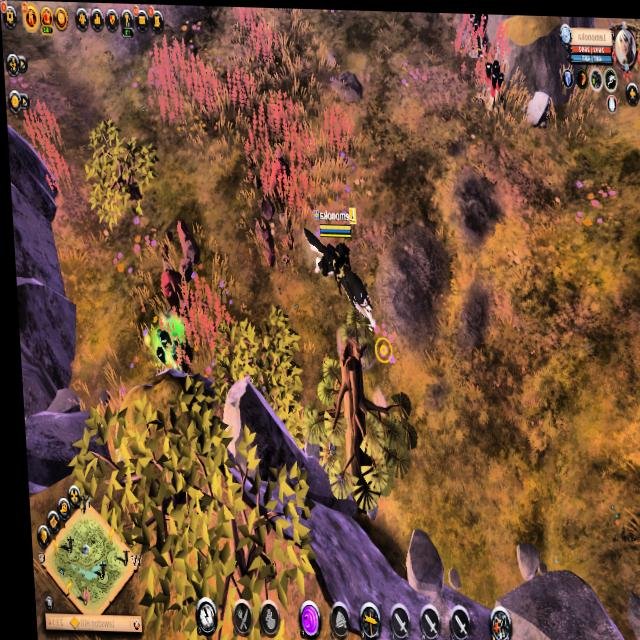ore tier 5: (149, 316, 191, 379), (473, 52, 510, 111)
